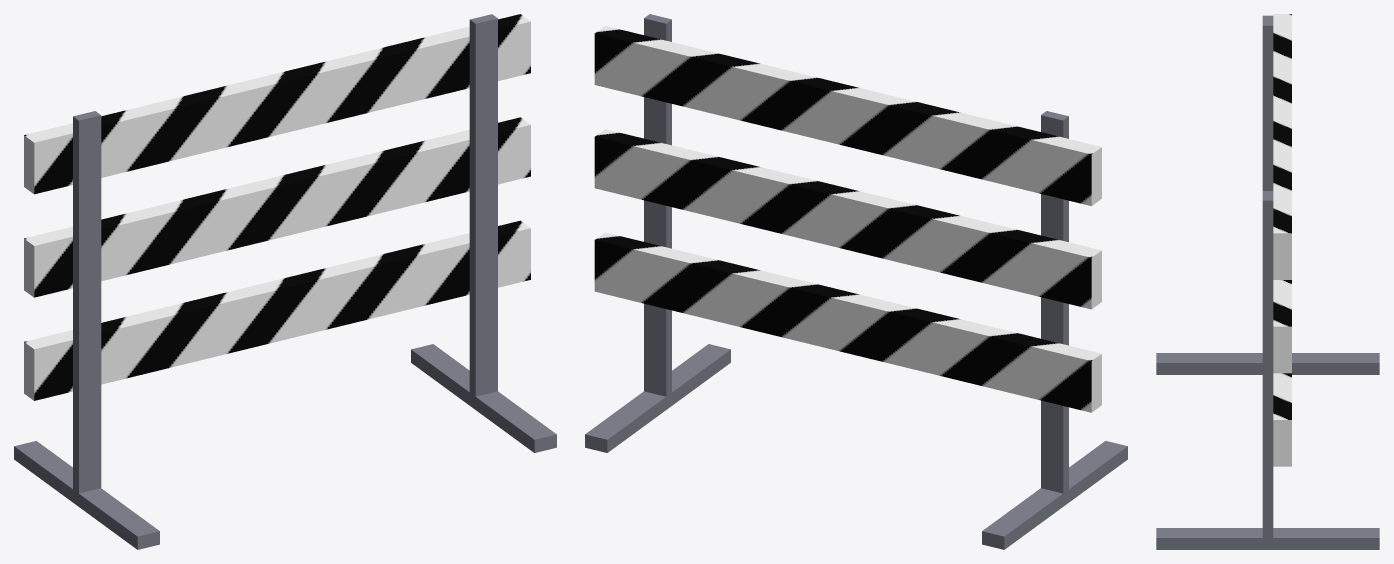
File: TrafficBarricade.fbx
3 renders of one model, left to right at view 1: azimuth 30°, elevation 25°; view 2: azimuth 150°, elevation 25°; view 3: azimuth 270°, elevation 25°, orthographic. The views are drawn at different scales.
Visible parts, largest first — view 1: TrafficBarricade_Beams, TrafficBarricade_Stands; view 2: TrafficBarricade_Beams, TrafficBarricade_Stands; view 3: TrafficBarricade_Stands, TrafficBarricade_Beams.
Part boxes in pixels (<box>): TrafficBarricade_Beams: <box>24,14,530,400</box>; TrafficBarricade_Stands: <box>14,14,556,549</box>; TrafficBarricade_Beams: <box>594,26,1101,412</box>; TrafficBarricade_Stands: <box>585,14,1127,549</box>; TrafficBarricade_Stands: <box>1156,15,1379,549</box>; TrafficBarricade_Beams: <box>1273,14,1291,466</box>.
Size of the model in its own units: 1.07 by 0.797 by 0.462.
